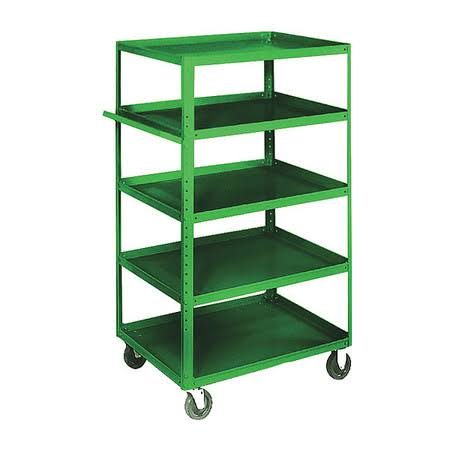Carts: (103, 29, 355, 418)
